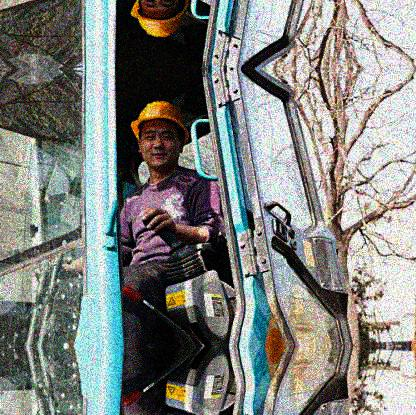helmet: (129, 100, 187, 168), (130, 1, 187, 39)
